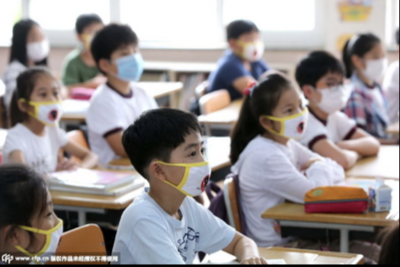with_mask: (28, 199, 64, 262), (177, 140, 212, 199), (32, 85, 64, 128), (279, 100, 311, 142), (319, 76, 351, 116), (114, 44, 145, 84), (25, 31, 51, 63), (364, 50, 389, 81), (242, 33, 266, 64)
